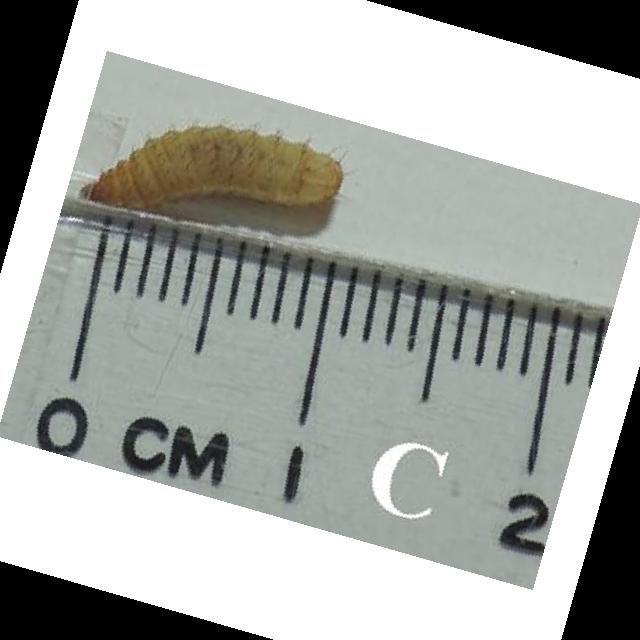Maggot: (80, 125, 347, 207)
